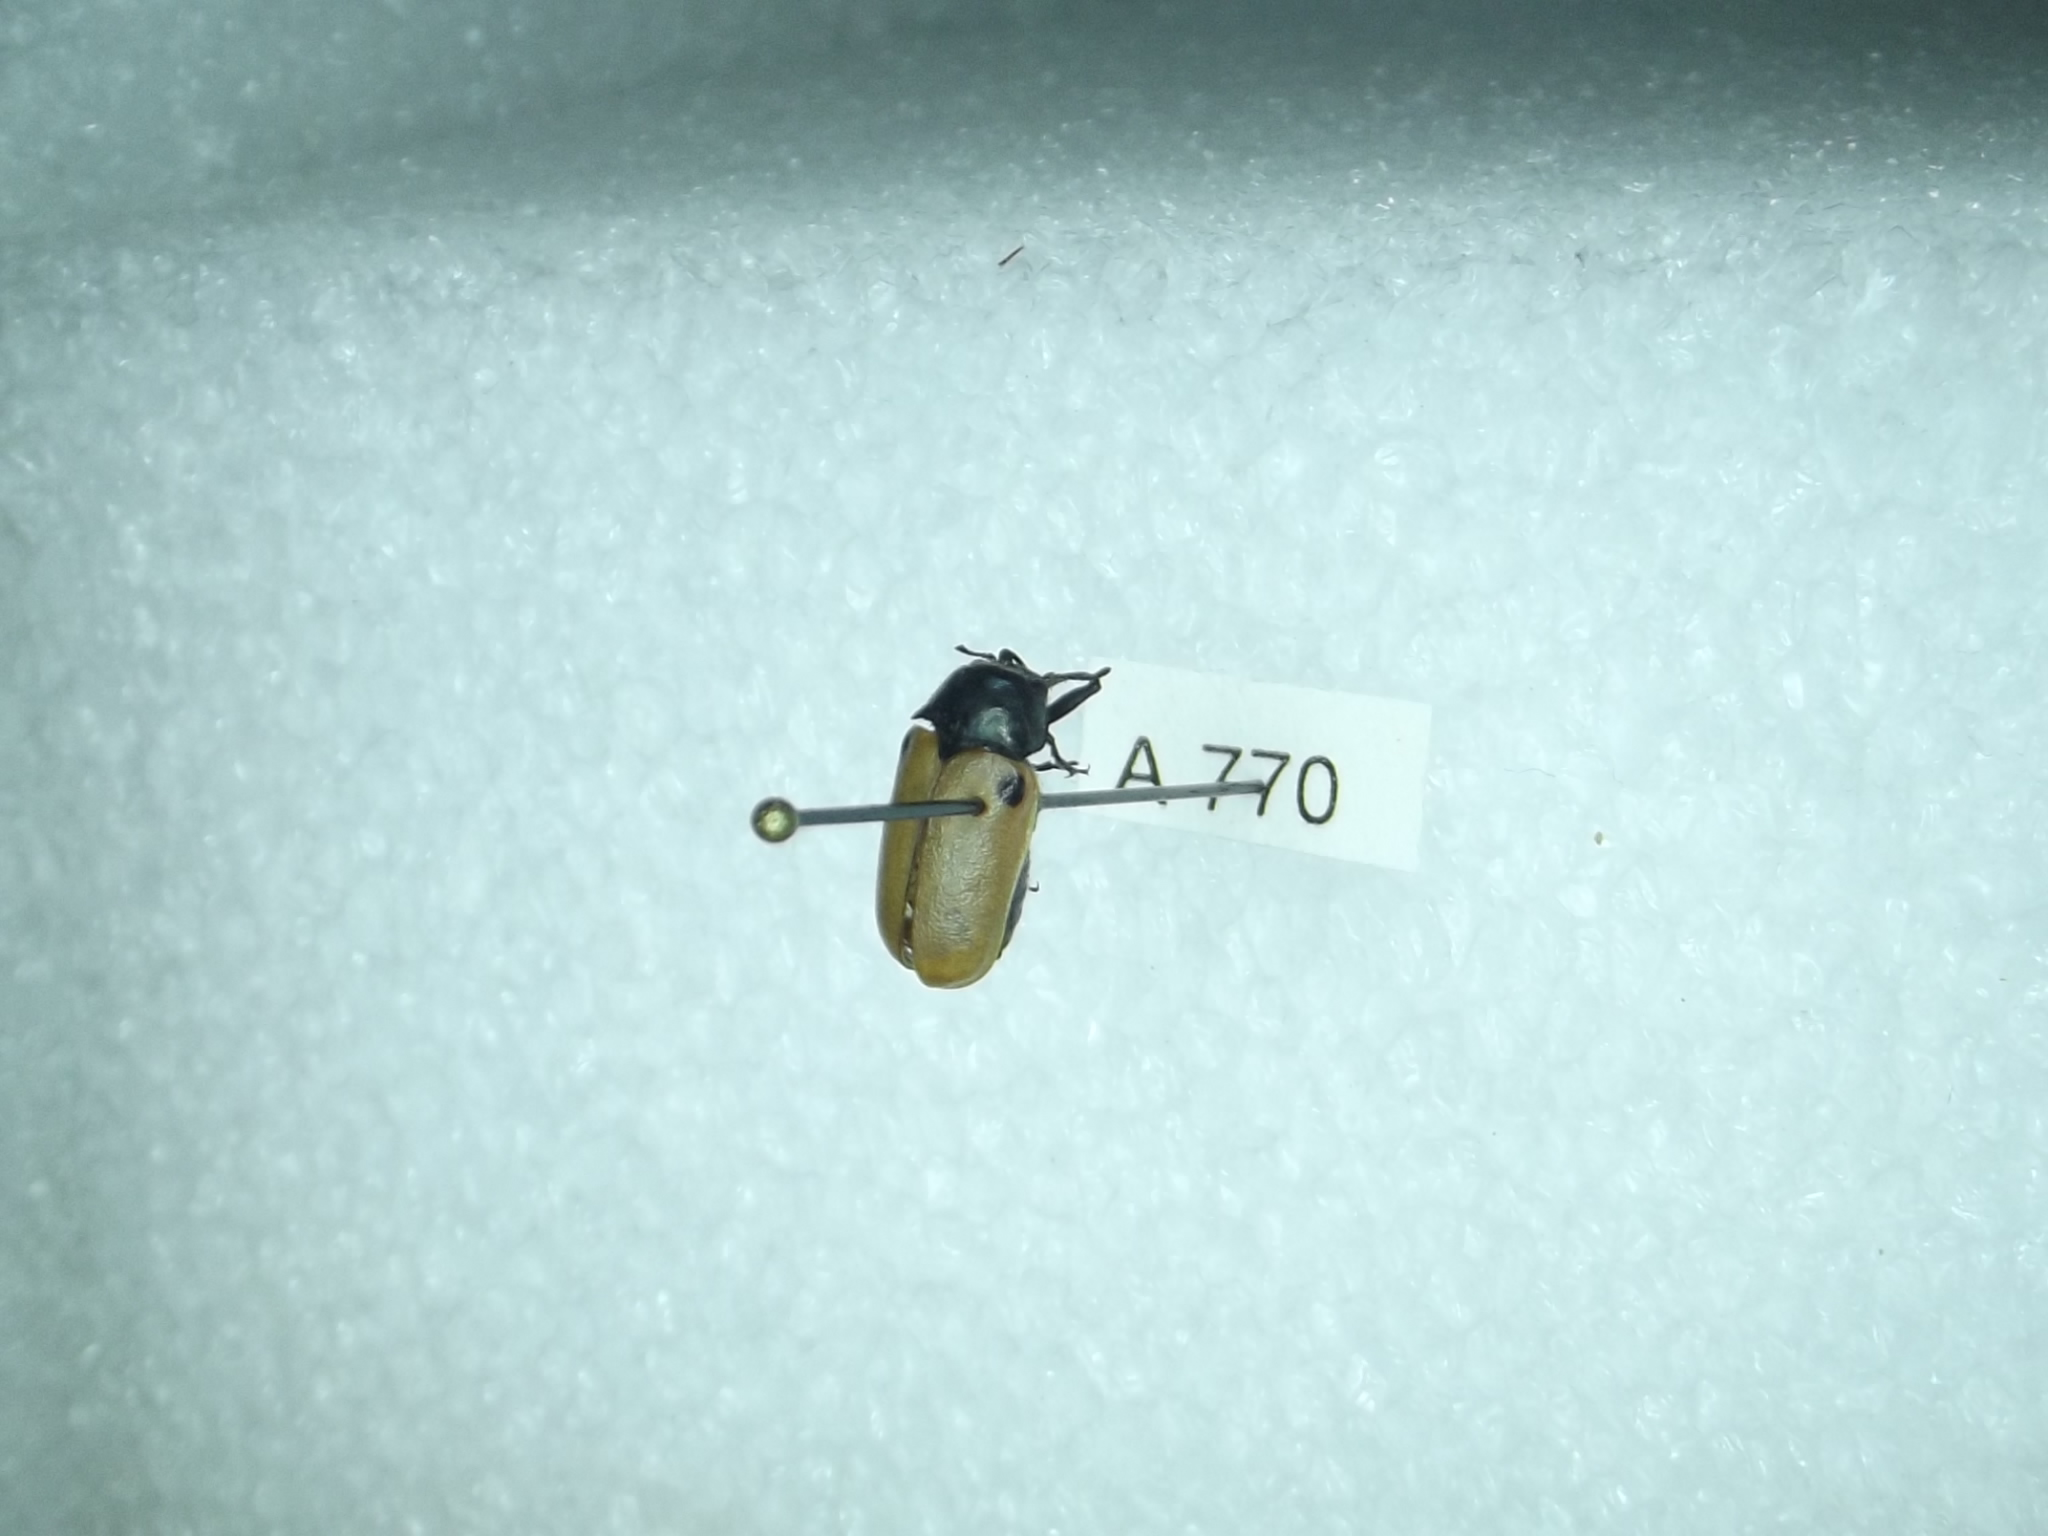Labidostomis_propinqua: (864, 644, 1111, 994)
